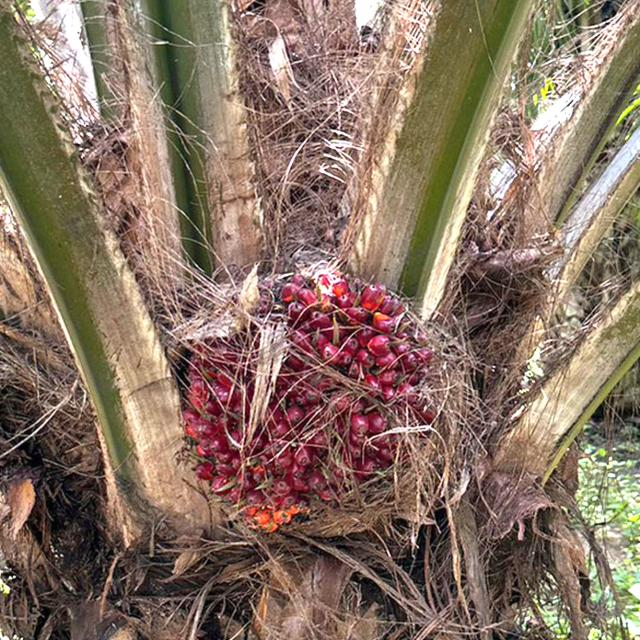ripe: (165, 252, 461, 526)
